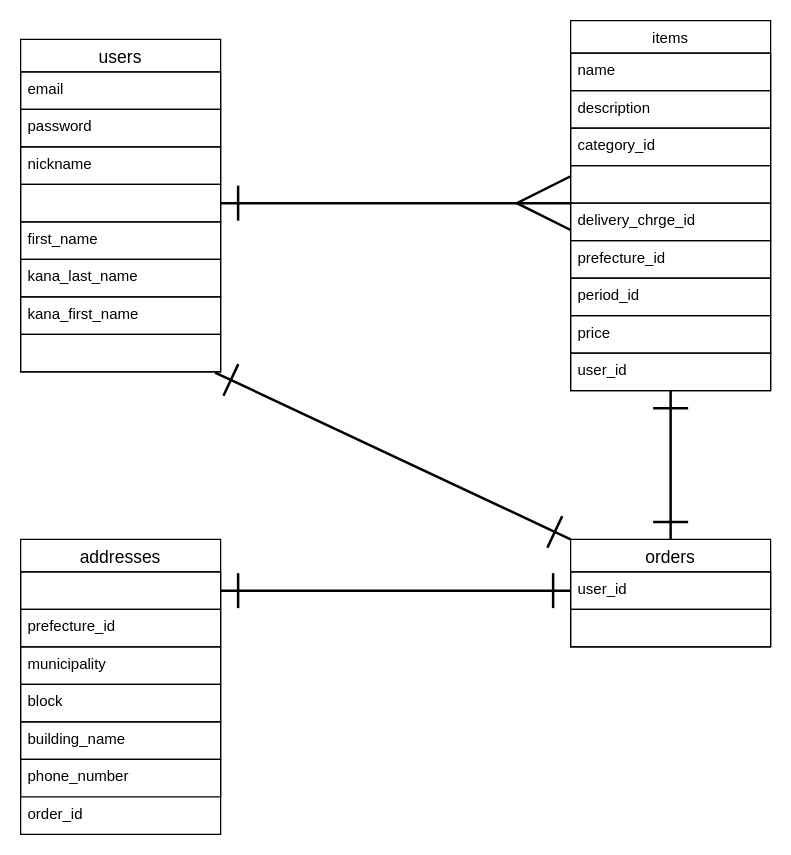
The diagram is 791 pixels wide and 855 high, and some of its shapes have lost their labels. The centre of each missing label's shape, as x and y in pixels:
"birth_date" belongs at (x=120, y=352).
"condition_id" belongs at (x=670, y=183).
"item_id" belongs at (x=670, y=627).
"last_name" belongs at (x=120, y=202).
"postal_code" belongs at (x=120, y=590).
